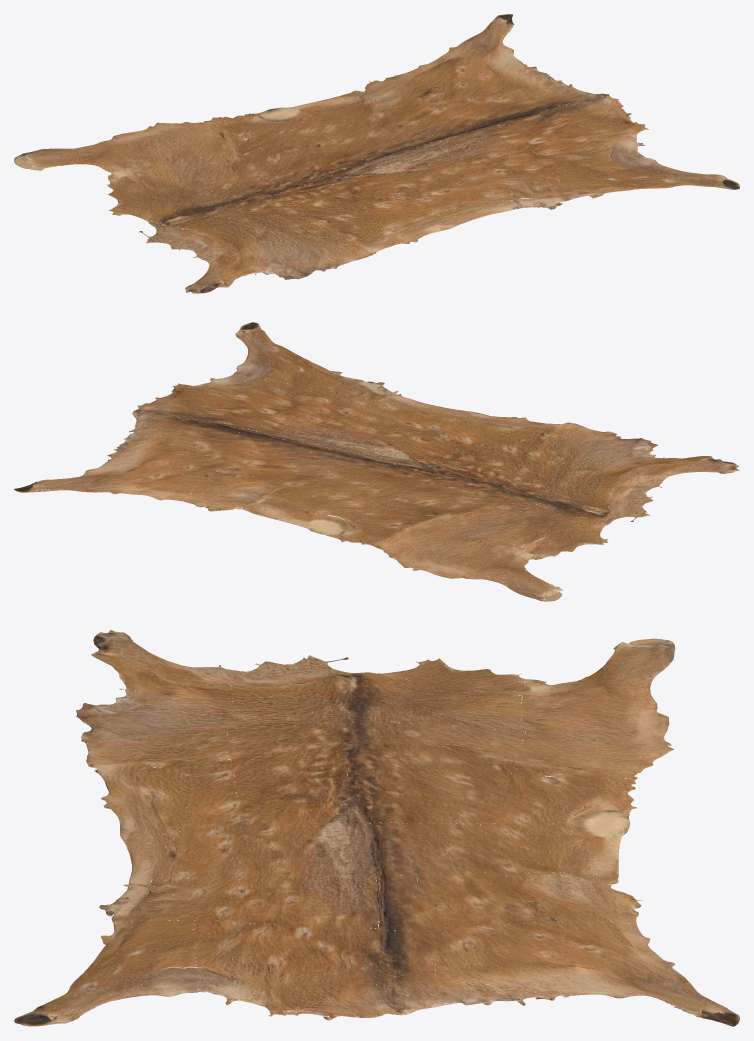
File: hide_prop.glb
3 renders of one model, top to bottom at view 1: azimuth 30°, elevation 25°; view 2: azimuth 150°, elevation 25°; view 3: azimuth 270°, elevation 25°, orthographic. The views are drawn at different scales.
Parts seen in each view (by area): view 1: prop_hide; view 2: prop_hide; view 3: prop_hide.
Boxes of the visible parts, box(x1,y1,x2,y2) form: prop_hide: box(14, 14, 739, 293); prop_hide: box(14, 322, 739, 601); prop_hide: box(14, 630, 739, 1026).
Bounding box in the file's own units: 0.9853 × 0.0193 × 0.7613.
1 material, 1 textured.
